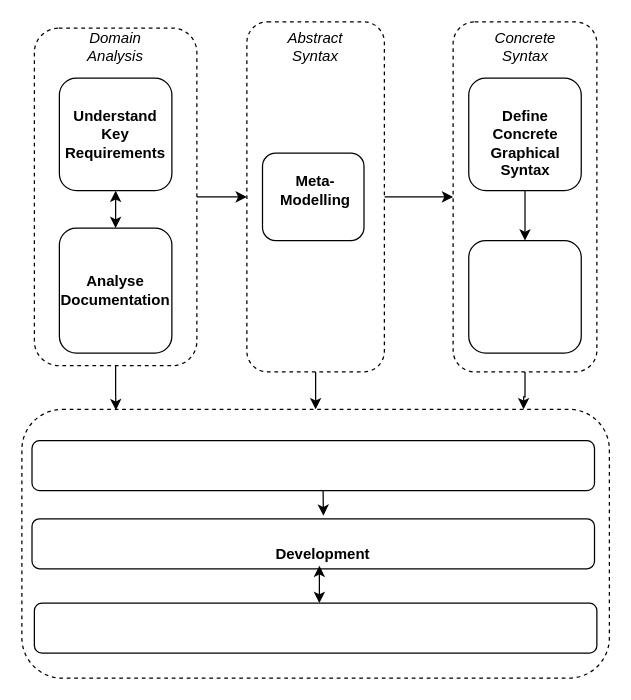
This 631x700 diagram has some shape labels left out. The box of each missing label's shape, as (x1, y1, x2, y2) in pixels:
Define Concrete Textual Syntax: (468, 239, 581, 353)
Establish Static Semantics: (31, 439, 594, 491)
Evaluation: (33, 602, 597, 653)
